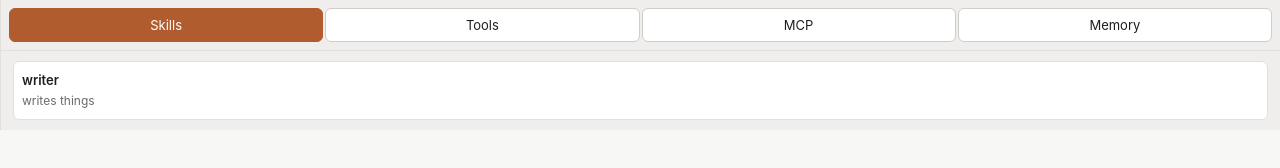
Test: InspectionPanel › shows skills on open and switches to tools
This screenshot has width=1280, height=168.
Expected: the text "writer" is shown, left=22, top=72, right=59, bottom=88
Click the tab "Tools". click: (482, 25)
box: left=325, top=8, right=640, bottom=42
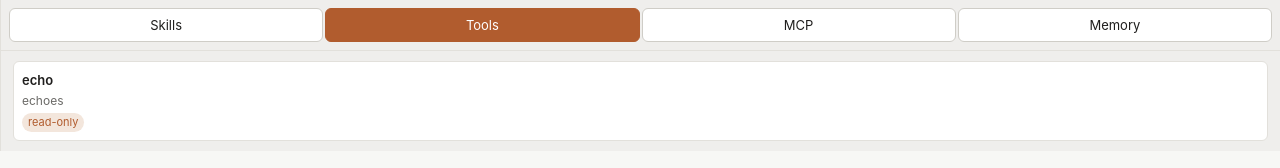
Expected: the text "echo" is shown, left=22, top=72, right=53, bottom=88
